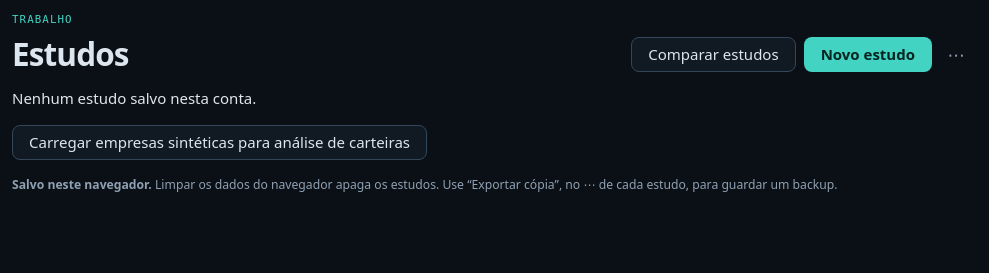
Test: StudiesPage carteira sintética local › expõe falha do seed como aviso acessível e libera nova tentativa
Click the button "Carregar empresas sintéticas para análise de carteiras": coordinates (220, 143) [12,125,427,160]
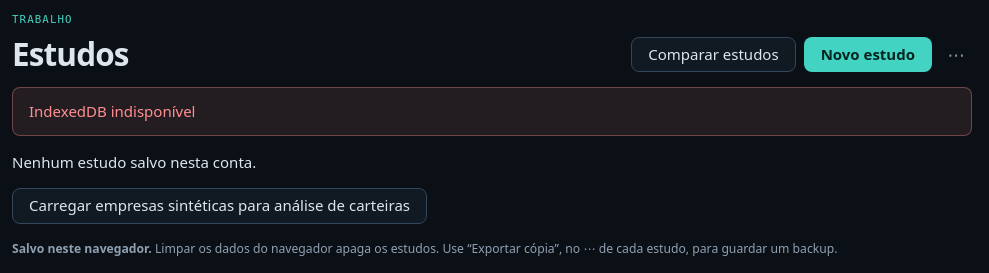
Expected: the button "Carregar empresas sintéticas para análise de carteiras" is enabled, [12,188,427,224]
Now the message reads "IndexedDB indisponível", box [29,101,196,121]
